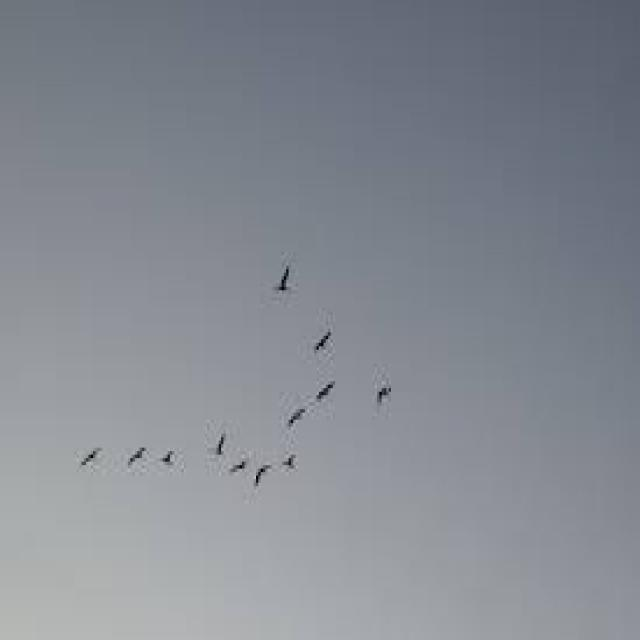bird: (65, 428, 121, 481), (122, 427, 155, 482), (306, 364, 348, 406), (206, 419, 239, 468), (276, 400, 322, 432), (266, 259, 300, 301), (276, 444, 310, 486), (151, 440, 186, 480), (226, 442, 256, 488), (254, 450, 278, 506), (310, 318, 336, 367), (378, 372, 395, 410)
